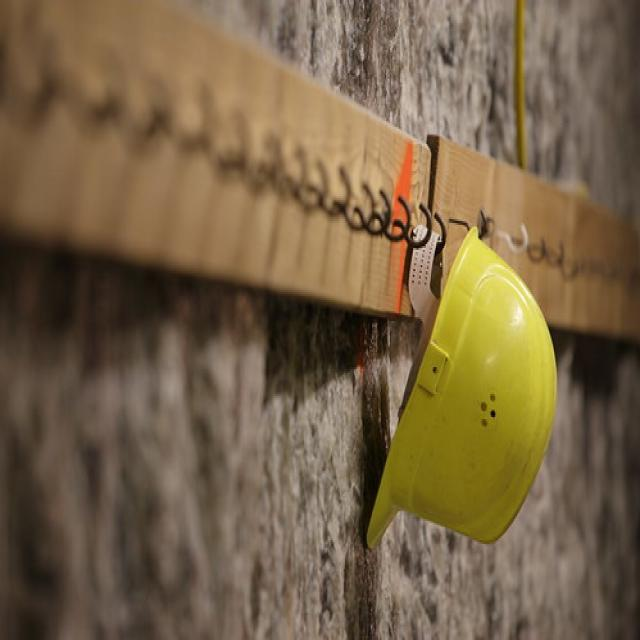Safety-Helmet: (364, 236, 570, 542)
